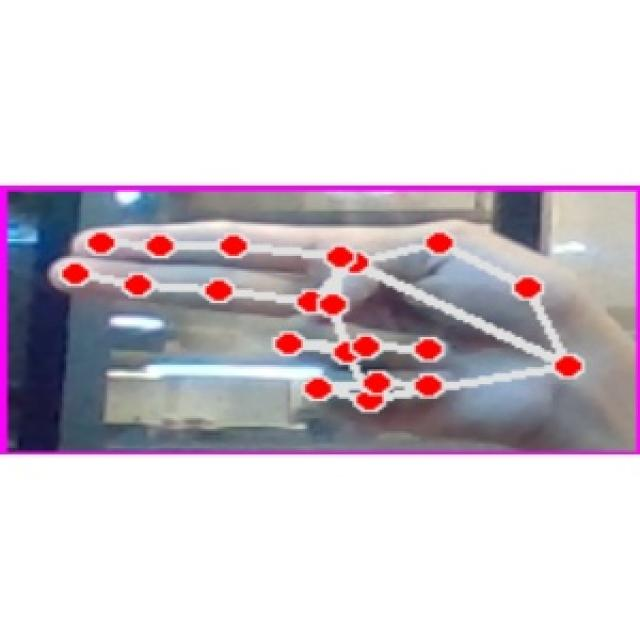H: (38, 217, 604, 438)
